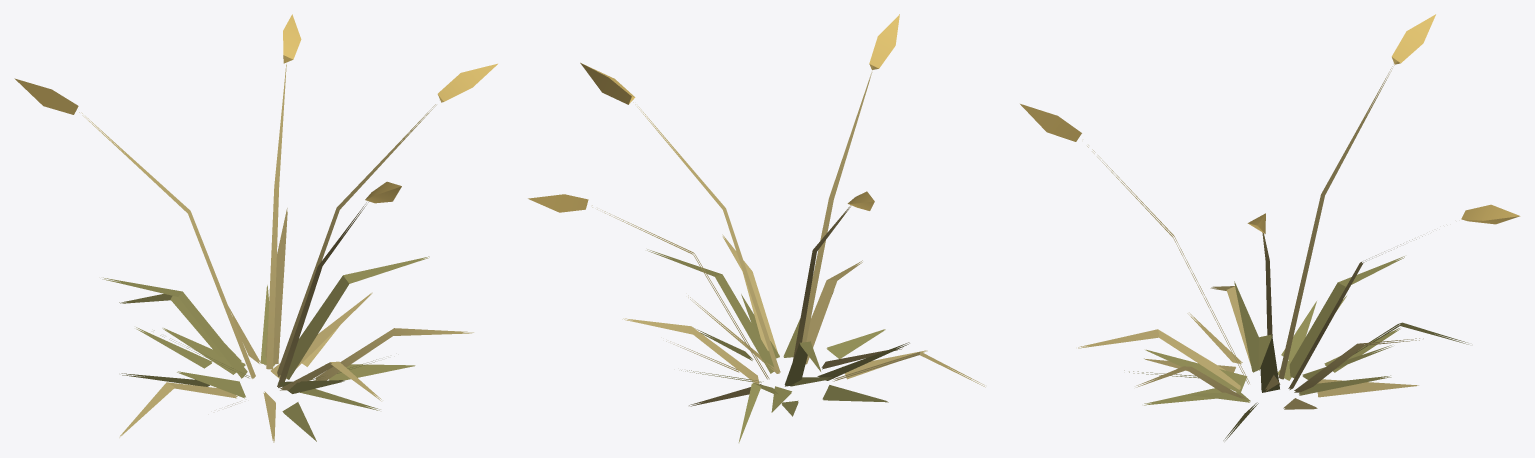
Rendered from tuft-1.glb.
3 views of the same model, side by side, from view 1: azimuth 30°, elevation 25°; view 2: azimuth 150°, elevation 25°; view 3: azimuth 270°, elevation 25° (orthographic). The views are drawn at different scales.
Parts seen in each view (by area): view 1: tuft-1; view 2: tuft-1; view 3: tuft-1.
Part boxes in pixels (x1,y1,x2,y2): tuft-1: (14,14,497,442); tuft-1: (528,14,985,442); tuft-1: (1020,14,1520,440).
Bounding box in the file's own units: 0.957 × 0.6562 × 1.02.
